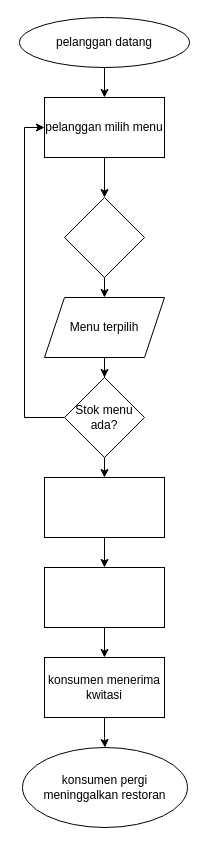
Some shapes in this 207 by 845 pixel diagram are drawn without their labels. The shapes that lost their labels are listed below. From the top down, each one's centre as x and y in pixels, then its label:
At (x=104, y=237): "jadi pesan?".
At (x=104, y=507): "pesanan diproses".
At (x=104, y=597): "terjadi transaksi diikasir".
